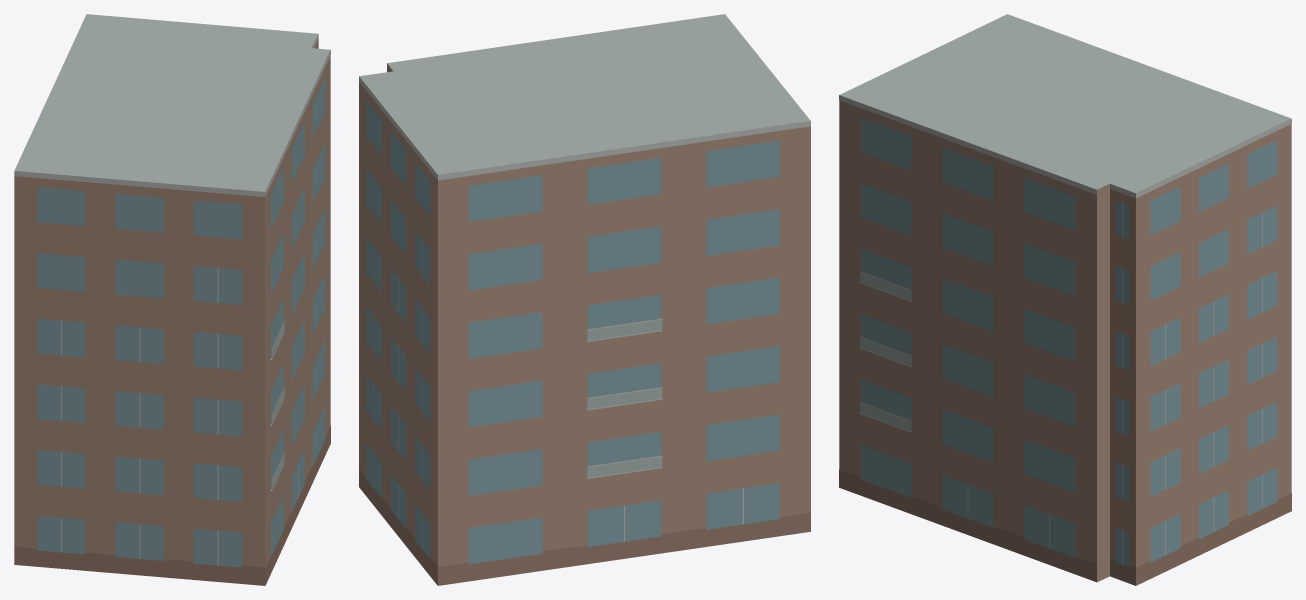
File: survey-upis-32933184.glb
3 views of the same model, side by side, from view 1: azimuth 30°, elevation 25°; view 2: azimuth 150°, elevation 25°; view 3: azimuth 270°, elevation 25° (orthographic). The views are drawn at different scales.
Parts seen in each view (by area): view 1: survey-upis-32933184.tmp; view 2: survey-upis-32933184.tmp; view 3: survey-upis-32933184.tmp.
Part boxes in pixels (bbox=[...]): survey-upis-32933184.tmp: bbox=[14, 14, 330, 585]; survey-upis-32933184.tmp: bbox=[359, 14, 810, 585]; survey-upis-32933184.tmp: bbox=[839, 14, 1291, 585].
Bounding box in the file's own units: 17.93 × 18.3 × 19.12.
